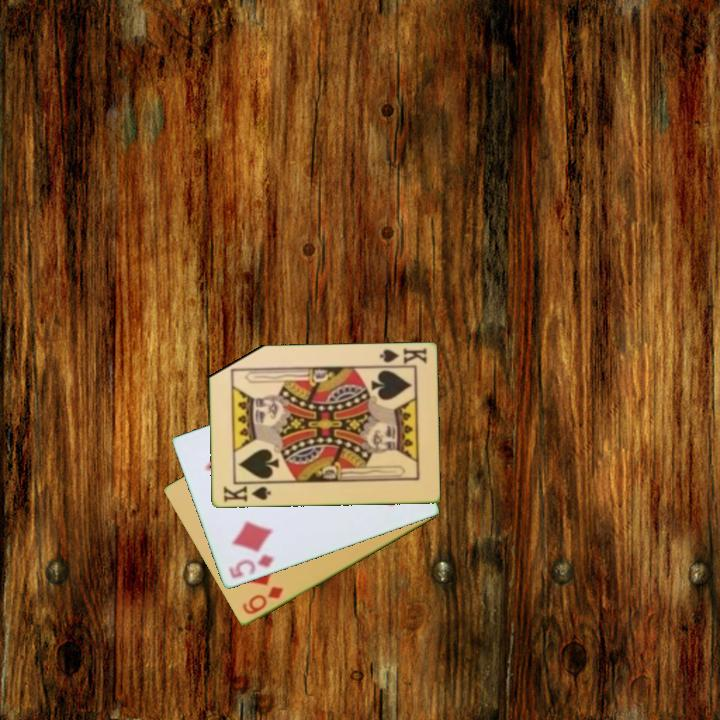5d: (225, 551, 276, 581)
6d: (239, 583, 286, 618)
Ks: (220, 480, 273, 506), (374, 345, 429, 369)
